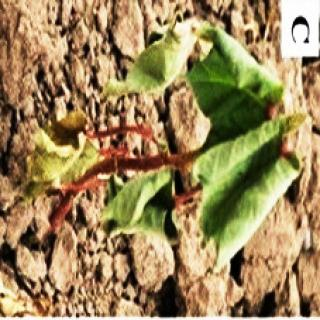wilt: (25, 111, 97, 187), (119, 19, 200, 86)
